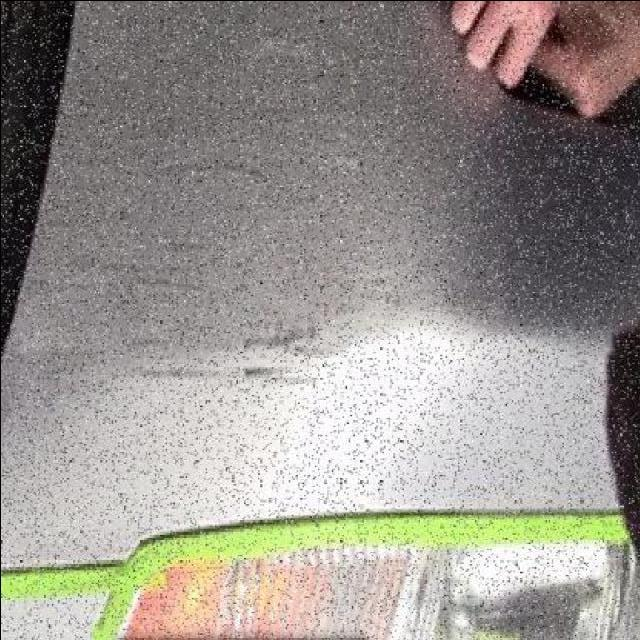front-bumper-dent: (2, 3, 631, 519)
